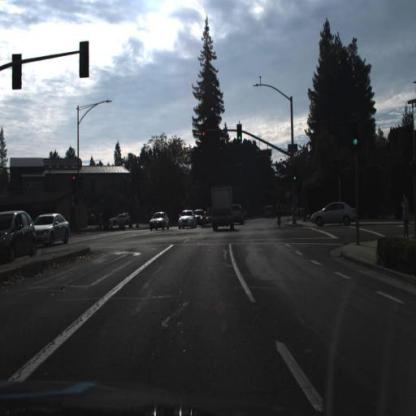biker: (276, 204, 284, 227)
car: (1, 211, 39, 265), (309, 199, 358, 230), (210, 185, 238, 235), (31, 215, 72, 249), (147, 210, 171, 234), (108, 209, 135, 230), (149, 210, 171, 235), (178, 208, 199, 233), (191, 207, 209, 230), (193, 208, 208, 230), (233, 203, 247, 226), (263, 203, 279, 222)
pedestrian: (401, 190, 410, 243)
trafficLight-Green: (348, 115, 364, 159), (352, 125, 362, 156), (291, 164, 300, 194), (237, 124, 245, 148), (237, 124, 243, 144), (293, 169, 298, 185)
trafficLight-Red: (201, 125, 208, 144)
trafficLight-RedLeft: (71, 170, 81, 198), (72, 174, 78, 190), (203, 131, 208, 145)
truck: (210, 184, 237, 237)
